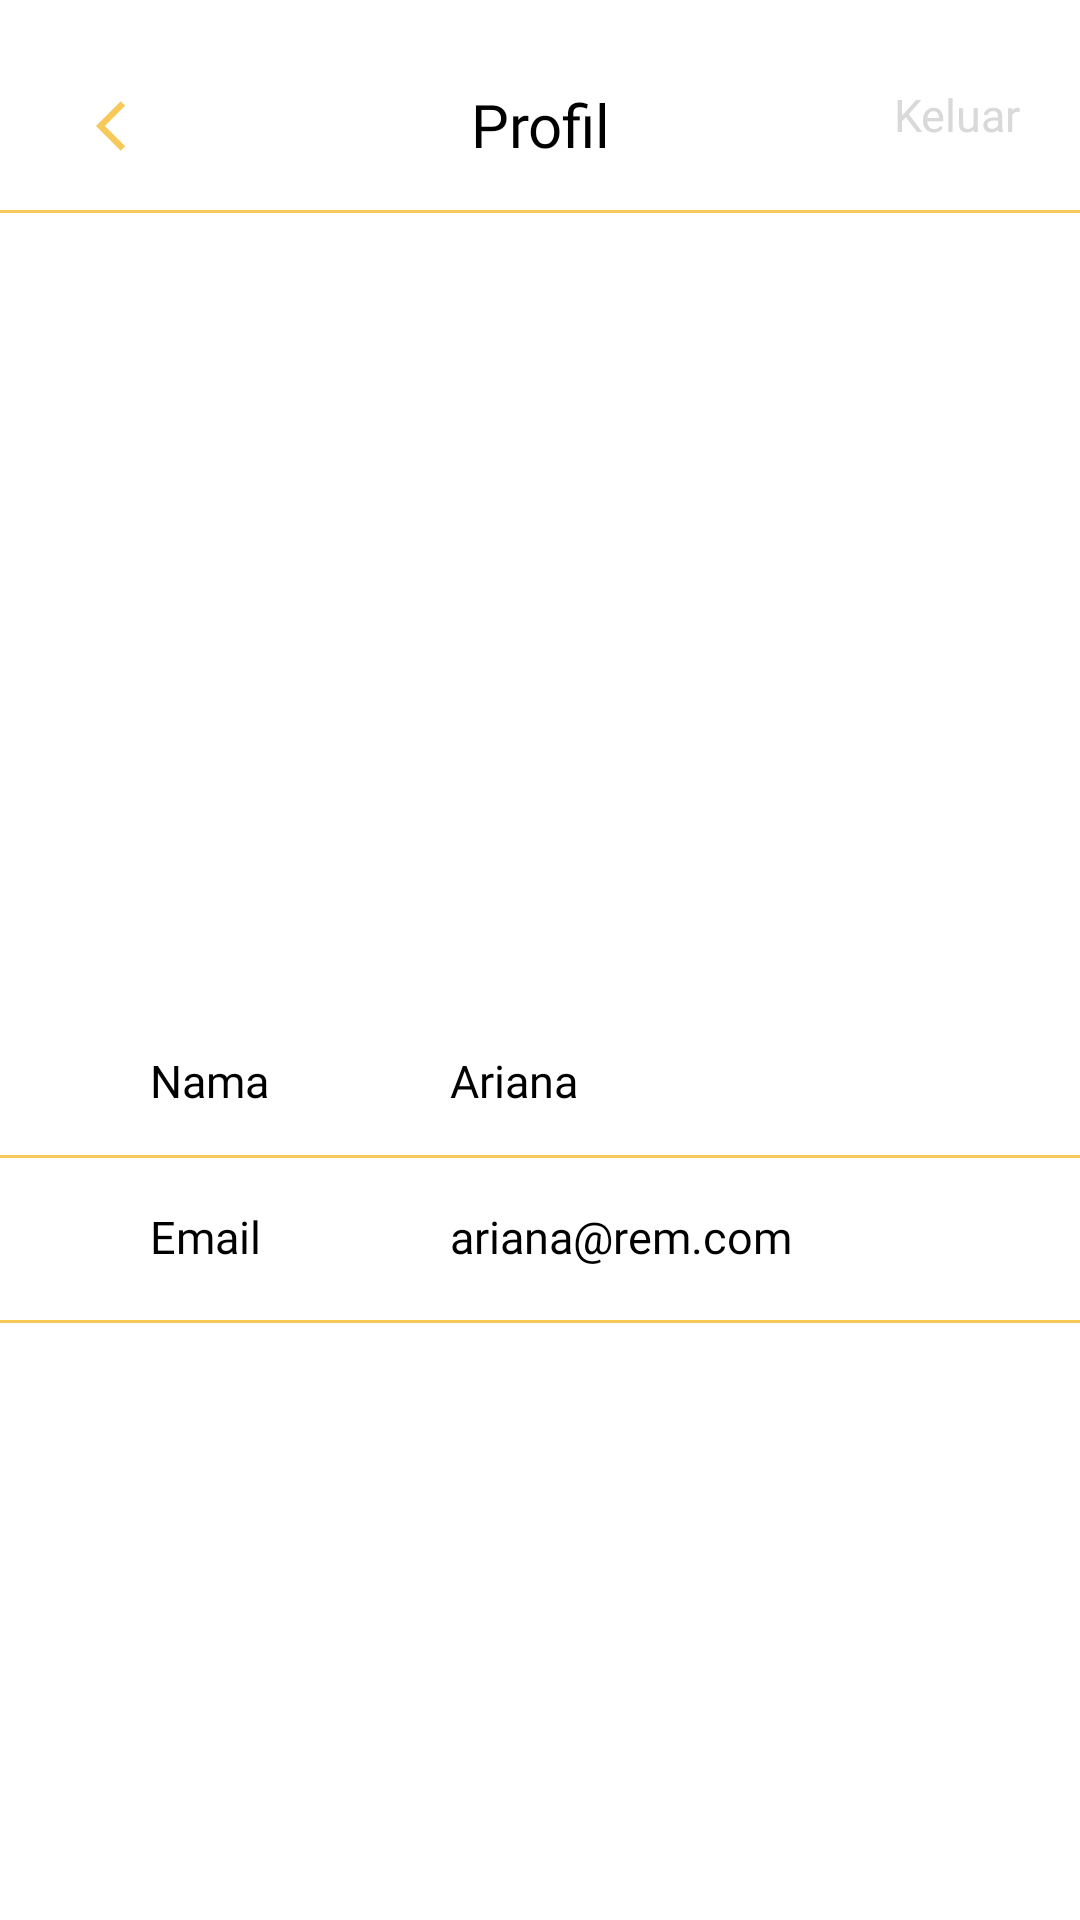

Screen size 1080px x 1920px. Icon name, then its box in pixels as (x1, y1, x2, y2):
back: (96, 101, 125, 151)
